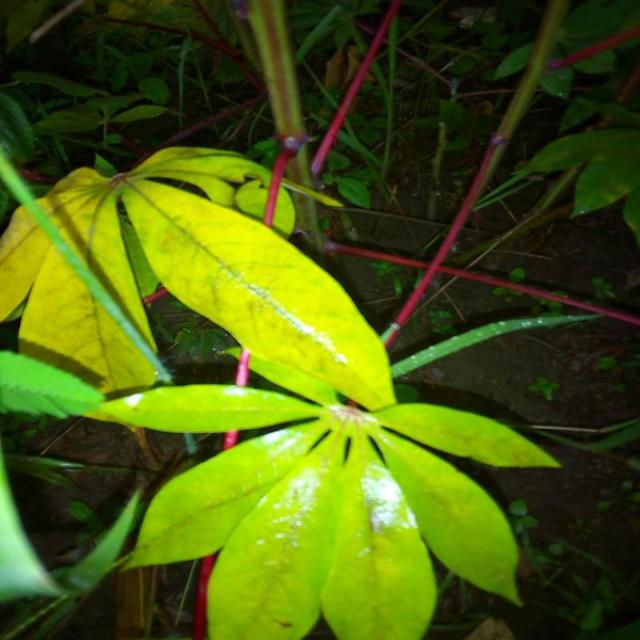cassava leaf: (1, 145, 562, 638), (119, 174, 398, 412)
